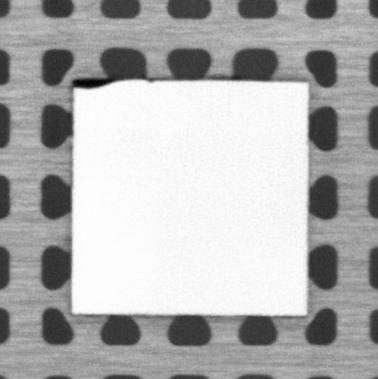DIE_BROKEN: (71, 75, 113, 89)
